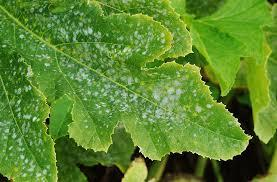powdery_mildew: (0, 4, 255, 179)
